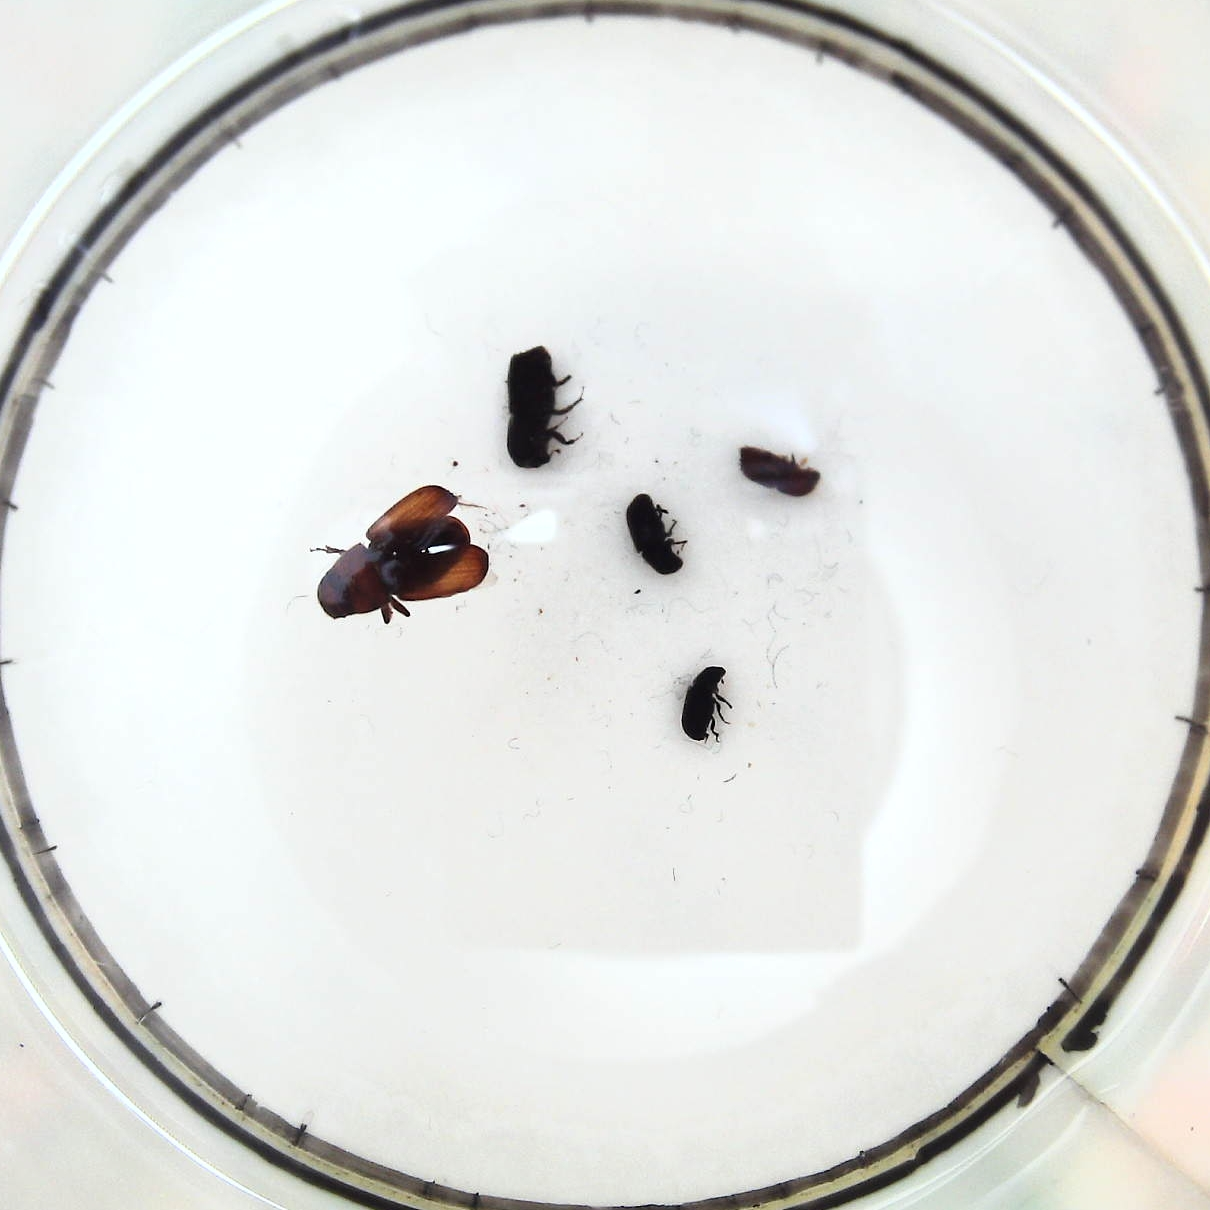Boerner: (507, 345, 575, 472)
Leconte: (314, 488, 488, 623)
Linnaeus: (735, 441, 822, 503)
armandi: (629, 493, 686, 578)
coleoptera: (684, 666, 727, 739)
